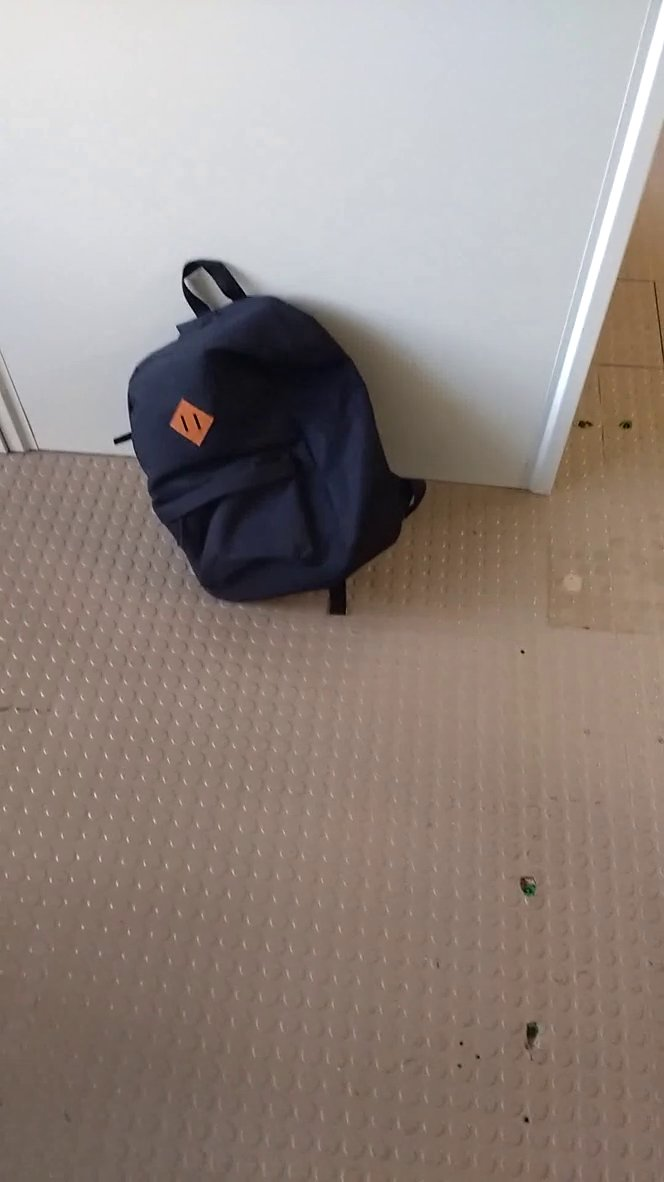bag: (103, 242, 431, 624)
